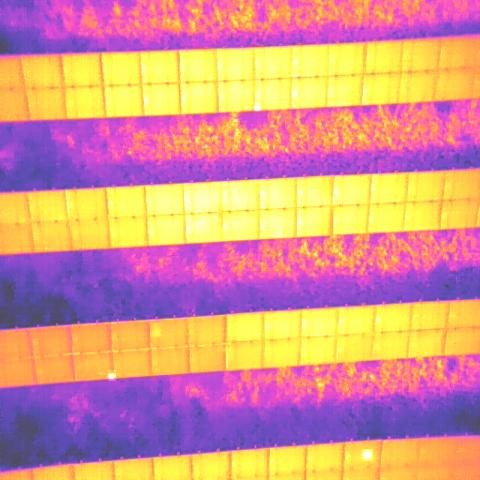fault: (252, 98, 263, 111), (362, 450, 373, 462), (108, 370, 116, 381)
